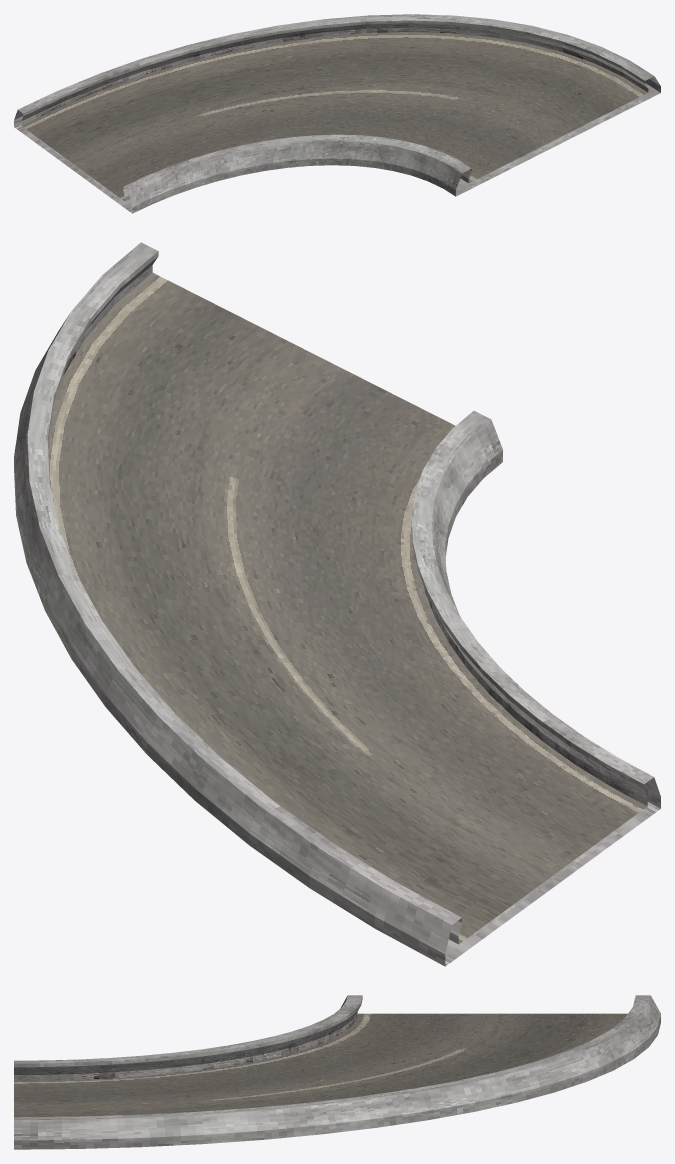
The model's file is road-Turn-HalfBankedLeft-BiSlopeDown-Down1-Left-Size2.glb.
The picture shows the model from 3 angles, top to bottom: view 1: azimuth 30°, elevation 25°; view 2: azimuth 150°, elevation 25°; view 3: azimuth 270°, elevation 25°; orthographic projection. The views are drawn at different scales.
Visible parts, largest first — view 1: road-Turn-HalfBankedLeft-BiSlopeDown-Down1-Left-Size2; view 2: road-Turn-HalfBankedLeft-BiSlopeDown-Down1-Left-Size2; view 3: road-Turn-HalfBankedLeft-BiSlopeDown-Down1-Left-Size2.
Boxes of the visible parts, x1,y1,x2,y2 form: road-Turn-HalfBankedLeft-BiSlopeDown-Down1-Left-Size2: (14, 14, 660, 213); road-Turn-HalfBankedLeft-BiSlopeDown-Down1-Left-Size2: (14, 242, 660, 966); road-Turn-HalfBankedLeft-BiSlopeDown-Down1-Left-Size2: (14, 995, 660, 1149).
Size of the model in its own units: 2 by 0.5859 by 2.
2 materials, 2 textured.
